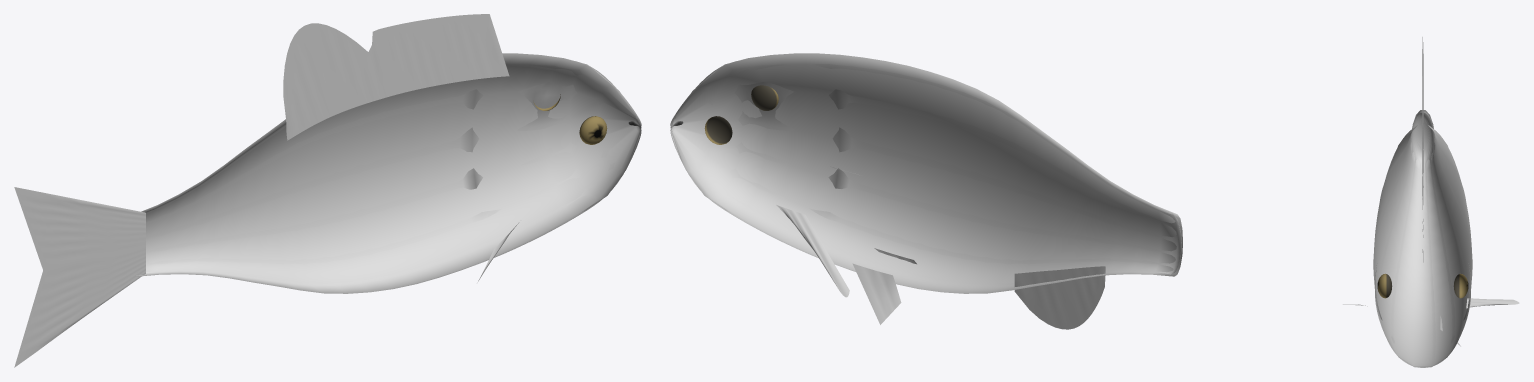
The model's file is mozambique-tilapia.glb.
3 renders of one model, left to right at view 1: azimuth 30°, elevation 25°; view 2: azimuth 150°, elevation 25°; view 3: azimuth 270°, elevation 25°, orthographic. The views are drawn at different scales.
Visible parts, largest first — view 1: BodyLow, Fins, Body, Eyes; view 2: BodyLow, Body, Fins, Eyes; view 3: BodyLow, Body, Fins, Eyes.
Boxes of the visible parts, box(x1,y1,x2,y2) form: BodyLow: box(136, 53, 641, 293); Fins: box(14, 14, 519, 367); Body: box(137, 54, 641, 293); Eyes: box(533, 94, 607, 144); BodyLow: box(670, 53, 1182, 293); Body: box(670, 54, 1181, 293); Fins: box(776, 166, 1105, 329); Eyes: box(704, 85, 778, 144); BodyLow: box(1373, 110, 1472, 367); Body: box(1373, 111, 1472, 367); Fins: box(1343, 37, 1519, 346); Eyes: box(1377, 273, 1468, 298).
Bounding box in the file's own units: 0.5708 × 0.268 × 0.1869.
